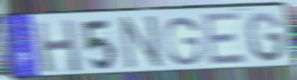5: (80, 17, 119, 72)
E: (201, 11, 249, 68)
G: (245, 11, 289, 65), (164, 16, 204, 67)
H: (33, 17, 84, 74)
N: (120, 13, 165, 71)
